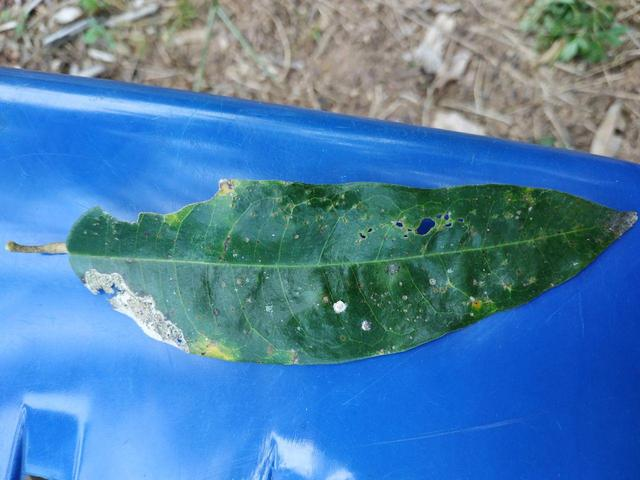blight spot: (351, 210, 485, 244)
